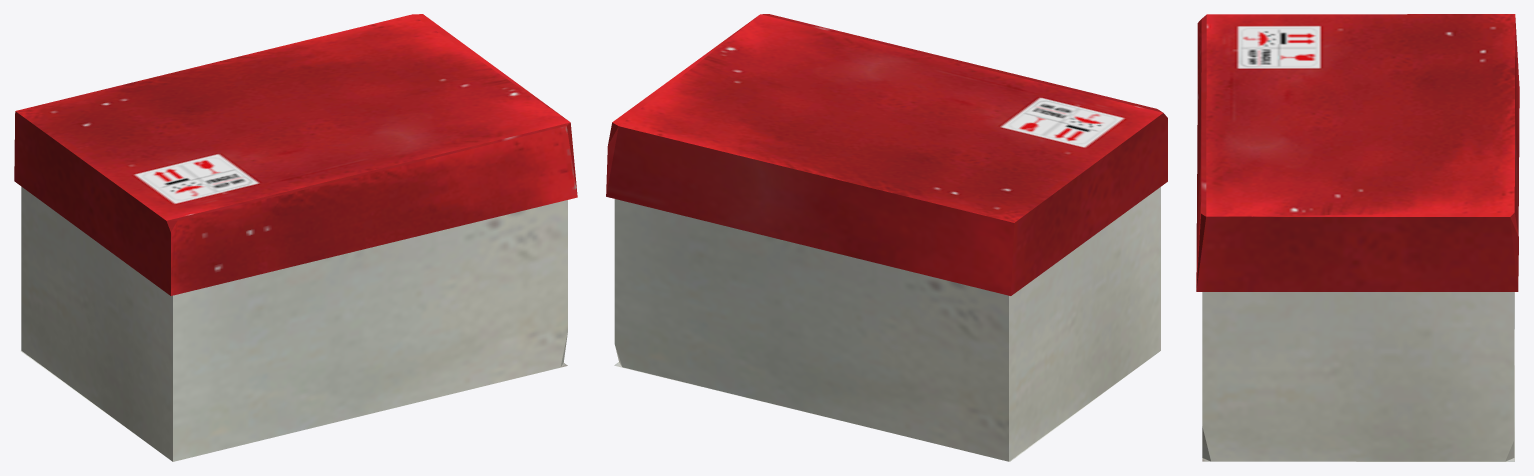
3 renders of one model, left to right at view 1: azimuth 30°, elevation 25°; view 2: azimuth 150°, elevation 25°; view 3: azimuth 270°, elevation 25°, orthographic. The views are drawn at different scales.
Visible parts, largest first — view 1: box; view 2: box; view 3: box.
Boxes of the visible parts, x1,y1,x2,y2 form: box: (14,14,577,461); box: (606,14,1167,461); box: (1196,14,1519,461).
Size of the model in its own units: 531 by 300 by 355.
1 material, 1 textured.
